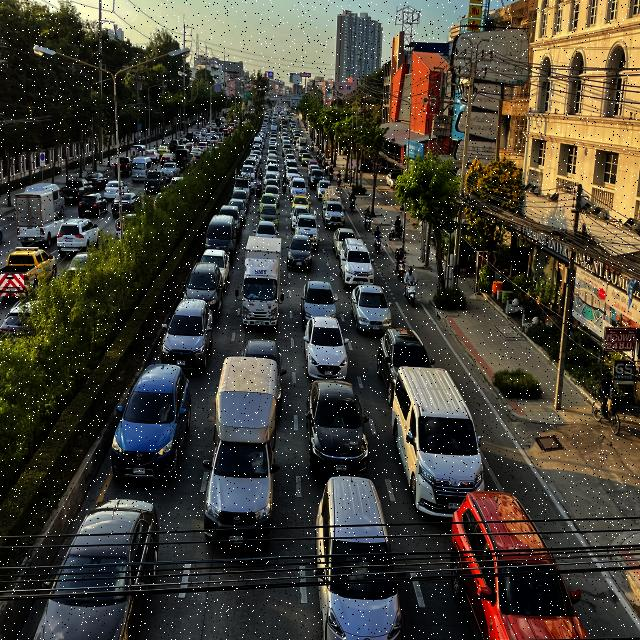bike: (339, 237, 375, 289), (402, 265, 418, 308), (388, 214, 404, 242), (394, 246, 406, 282), (373, 225, 383, 254), (364, 205, 372, 232)
car: (449, 488, 588, 640), (30, 496, 162, 640), (312, 477, 406, 640), (390, 364, 487, 520), (110, 363, 194, 482), (303, 378, 372, 480), (375, 326, 438, 406), (160, 299, 214, 371), (239, 338, 287, 416), (303, 316, 350, 382), (181, 262, 224, 320), (349, 282, 394, 335), (299, 278, 339, 330), (197, 250, 231, 292), (285, 233, 315, 272)
truck: (202, 358, 282, 550), (240, 235, 284, 330), (294, 209, 320, 252), (322, 186, 346, 229)
